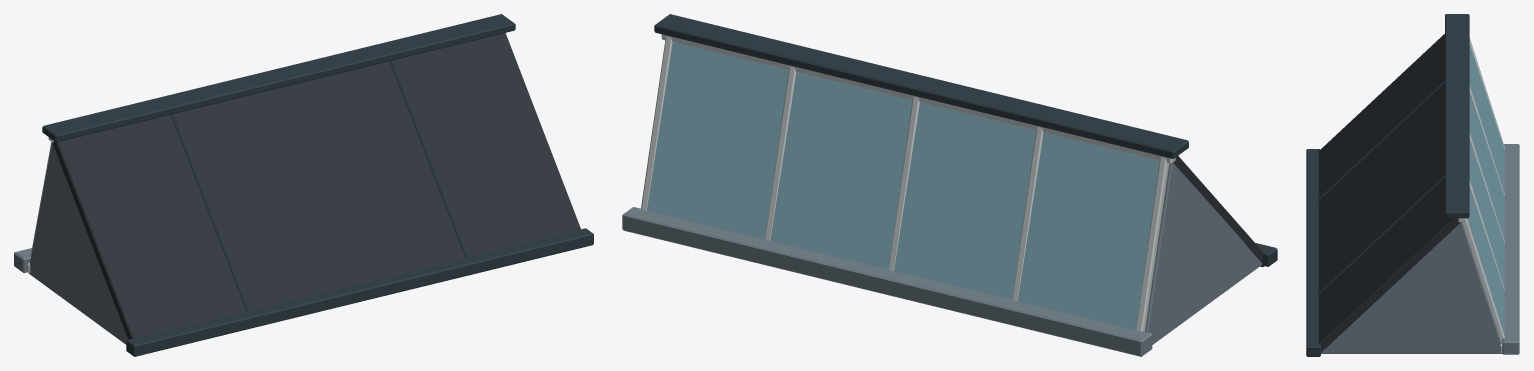
Rendered from b12_sawtooth_roof_glazing_module.glb.
3 views of the same model, side by side, from view 1: azimuth 30°, elevation 25°; view 2: azimuth 150°, elevation 25°; view 3: azimuth 270°, elevation 25° (orthographic). The views are drawn at different scales.
Visible parts, largest first — view 1: b12_sawtooth_roof_glazing_module; view 2: b12_sawtooth_roof_glazing_module; view 3: b12_sawtooth_roof_glazing_module.
Part boxes in pixels (x1,y1,x2,y2): b12_sawtooth_roof_glazing_module: [14, 14, 593, 356]; b12_sawtooth_roof_glazing_module: [622, 14, 1277, 356]; b12_sawtooth_roof_glazing_module: [1306, 14, 1519, 356].
Bounding box in the file's own units: 3.24 × 1.12 × 1.47.
